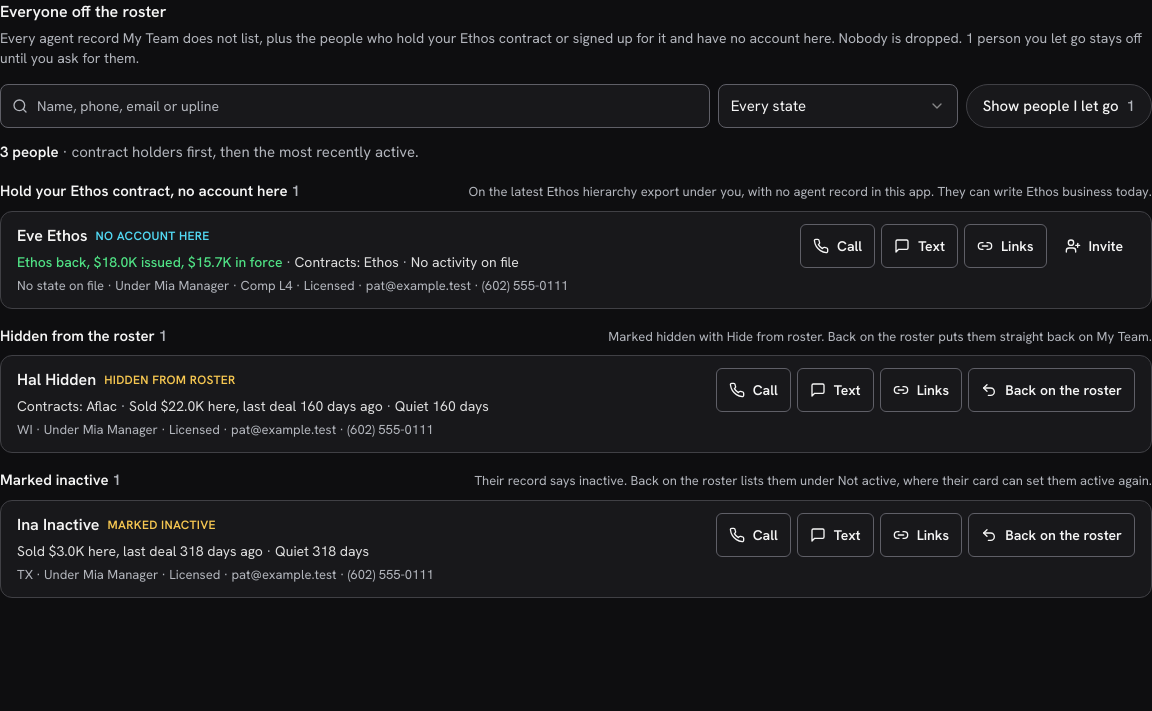
Test: Bring back › lists the people off the roster in groups with their contracts, and keeps the people Sam let go off until asked
This screenshot has width=1152, height=711.
Expected: the text "Eve Ethos" is shown, [17,224,88,246]
Expected: the text "Lou Letgo" is not shown
# The let-go toggle names its count and brings them in with their reason.
Click the button "Show people I let go 1". click: (1059, 106)
box: [966,84,1151,128]
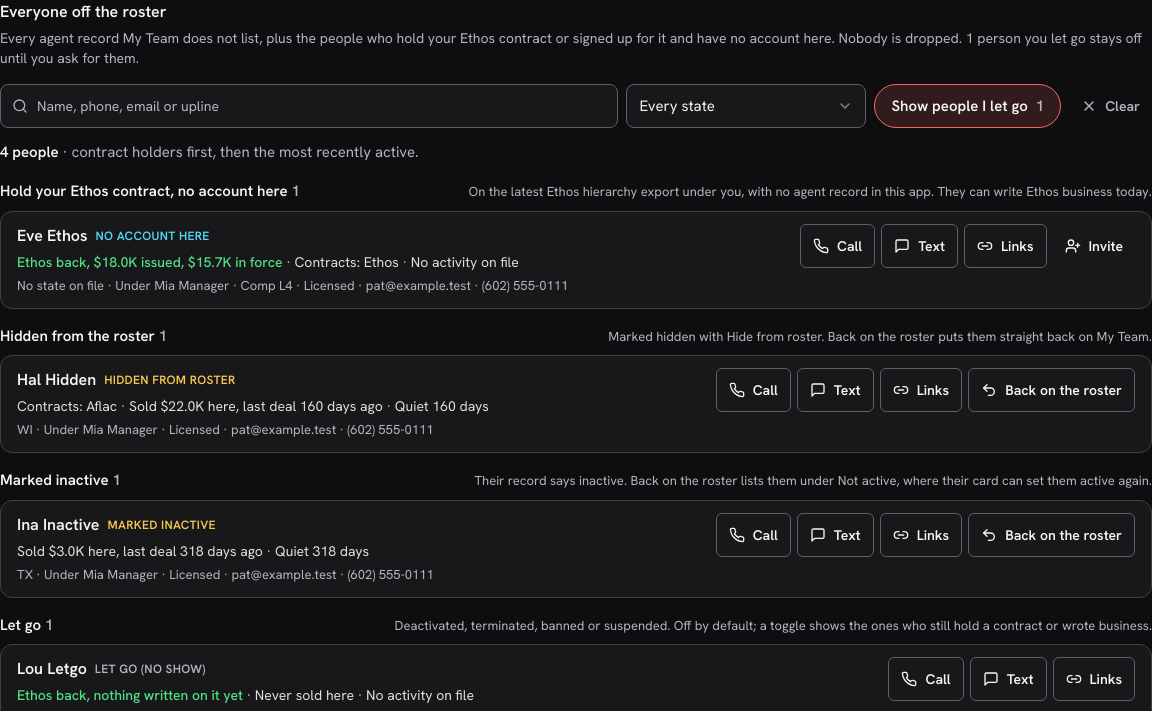
Result: the text "Lou Letgo" is shown at [17,658,87,679]
Result: the text "Let go (no show)" is shown at [95,657,206,681]
Result: the text "4 people" is shown at [0,142,59,162]
